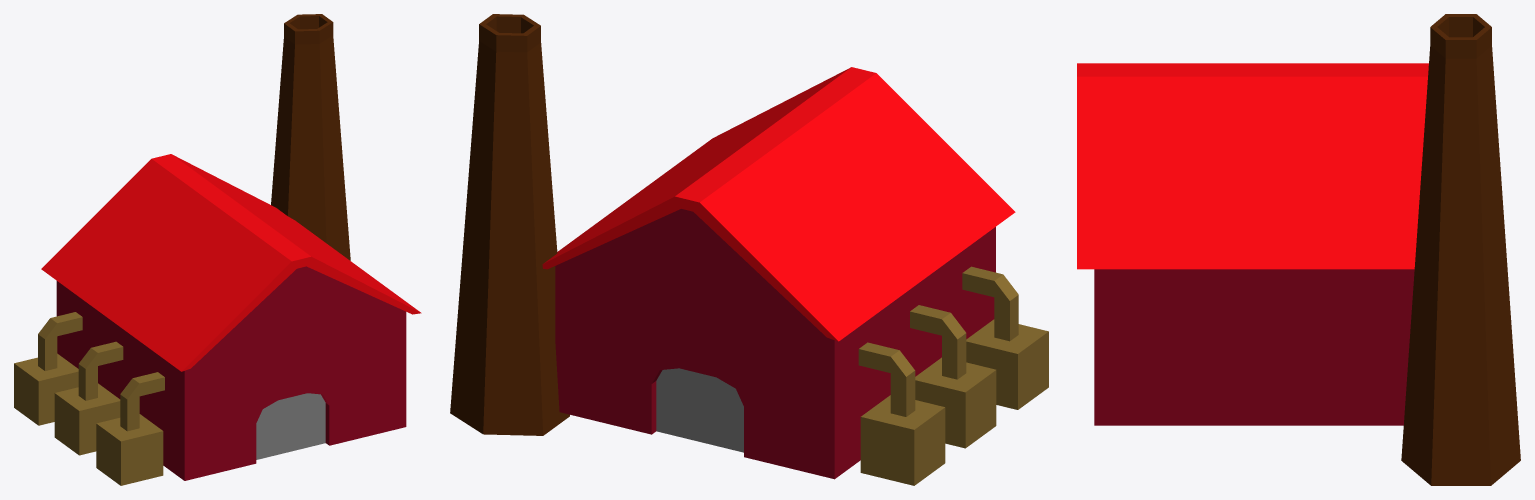
File: factory.glb
3 views of the same model, side by side, from view 1: azimuth 30°, elevation 25°; view 2: azimuth 150°, elevation 25°; view 3: azimuth 270°, elevation 25° (orthographic). The views are drawn at different scales.
Visible parts, largest first — view 1: Cylinder.008; view 2: Cylinder.008; view 3: Cylinder.008.
Boxes of the visible parts, x1,y1,x2,y2 form: Cylinder.008: [14, 14, 421, 485]; Cylinder.008: [450, 14, 1048, 485]; Cylinder.008: [1077, 14, 1520, 485].
Size of the model in its own units: 466 by 400 by 371.
